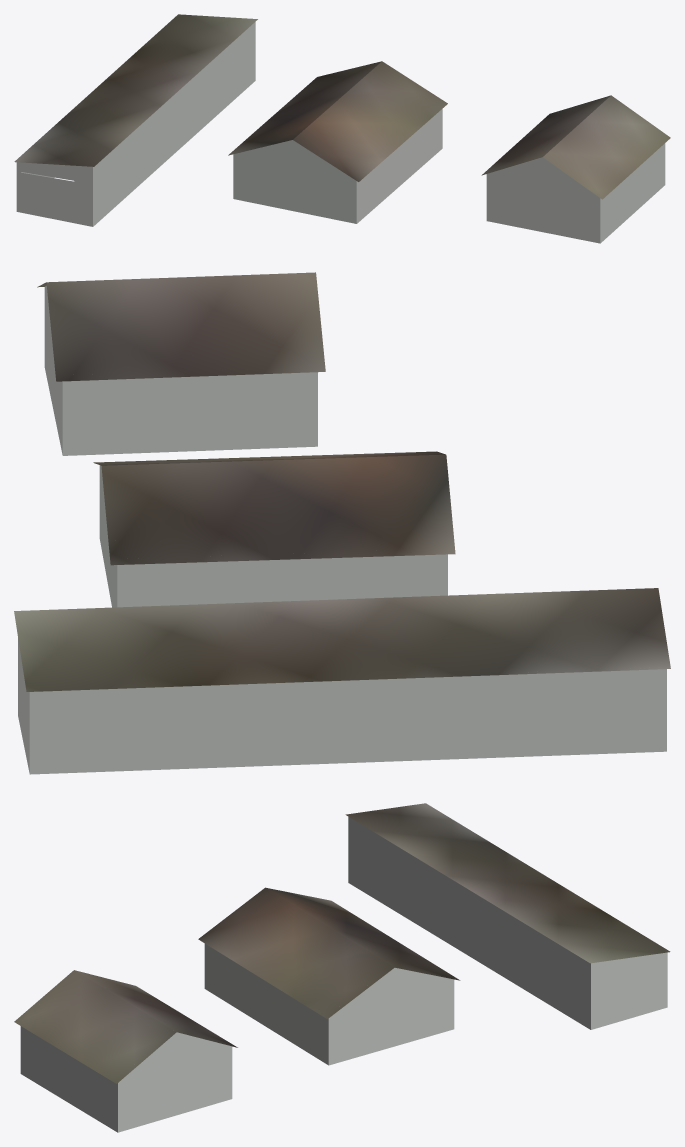
File: LSZH_0_3.glb
The picture shows the model from 3 angles, top to bottom: view 1: azimuth 30°, elevation 25°; view 2: azimuth 150°, elevation 25°; view 3: azimuth 270°, elevation 25°; orthographic projection. The views are drawn at different scales.
Parts seen in each view (by area): view 1: building_f1c1c7658fed56cc, building_bc9d17893c5a922b; view 2: building_f1c1c7658fed56cc, building_bc9d17893c5a922b; view 3: building_bc9d17893c5a922b, building_f1c1c7658fed56cc.
Part boxes in pixels (x1,y1,x2,y2): building_f1c1c7658fed56cc: [14, 14, 670, 199]; building_bc9d17893c5a922b: [16, 22, 665, 243]; building_f1c1c7658fed56cc: [14, 272, 670, 691]; building_bc9d17893c5a922b: [18, 286, 666, 774]; building_bc9d17893c5a922b: [20, 817, 667, 1132]; building_f1c1c7658fed56cc: [14, 803, 670, 1083].
Size of the model in its own units: 70.2 by 10.46 by 69.45.
2 materials, 1 textured.
